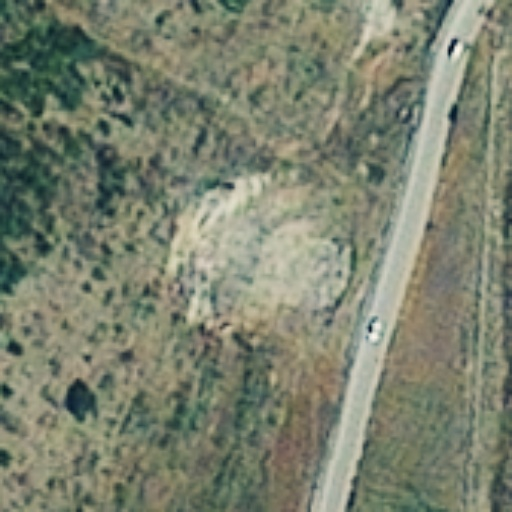landslide: (164, 163, 355, 328)
